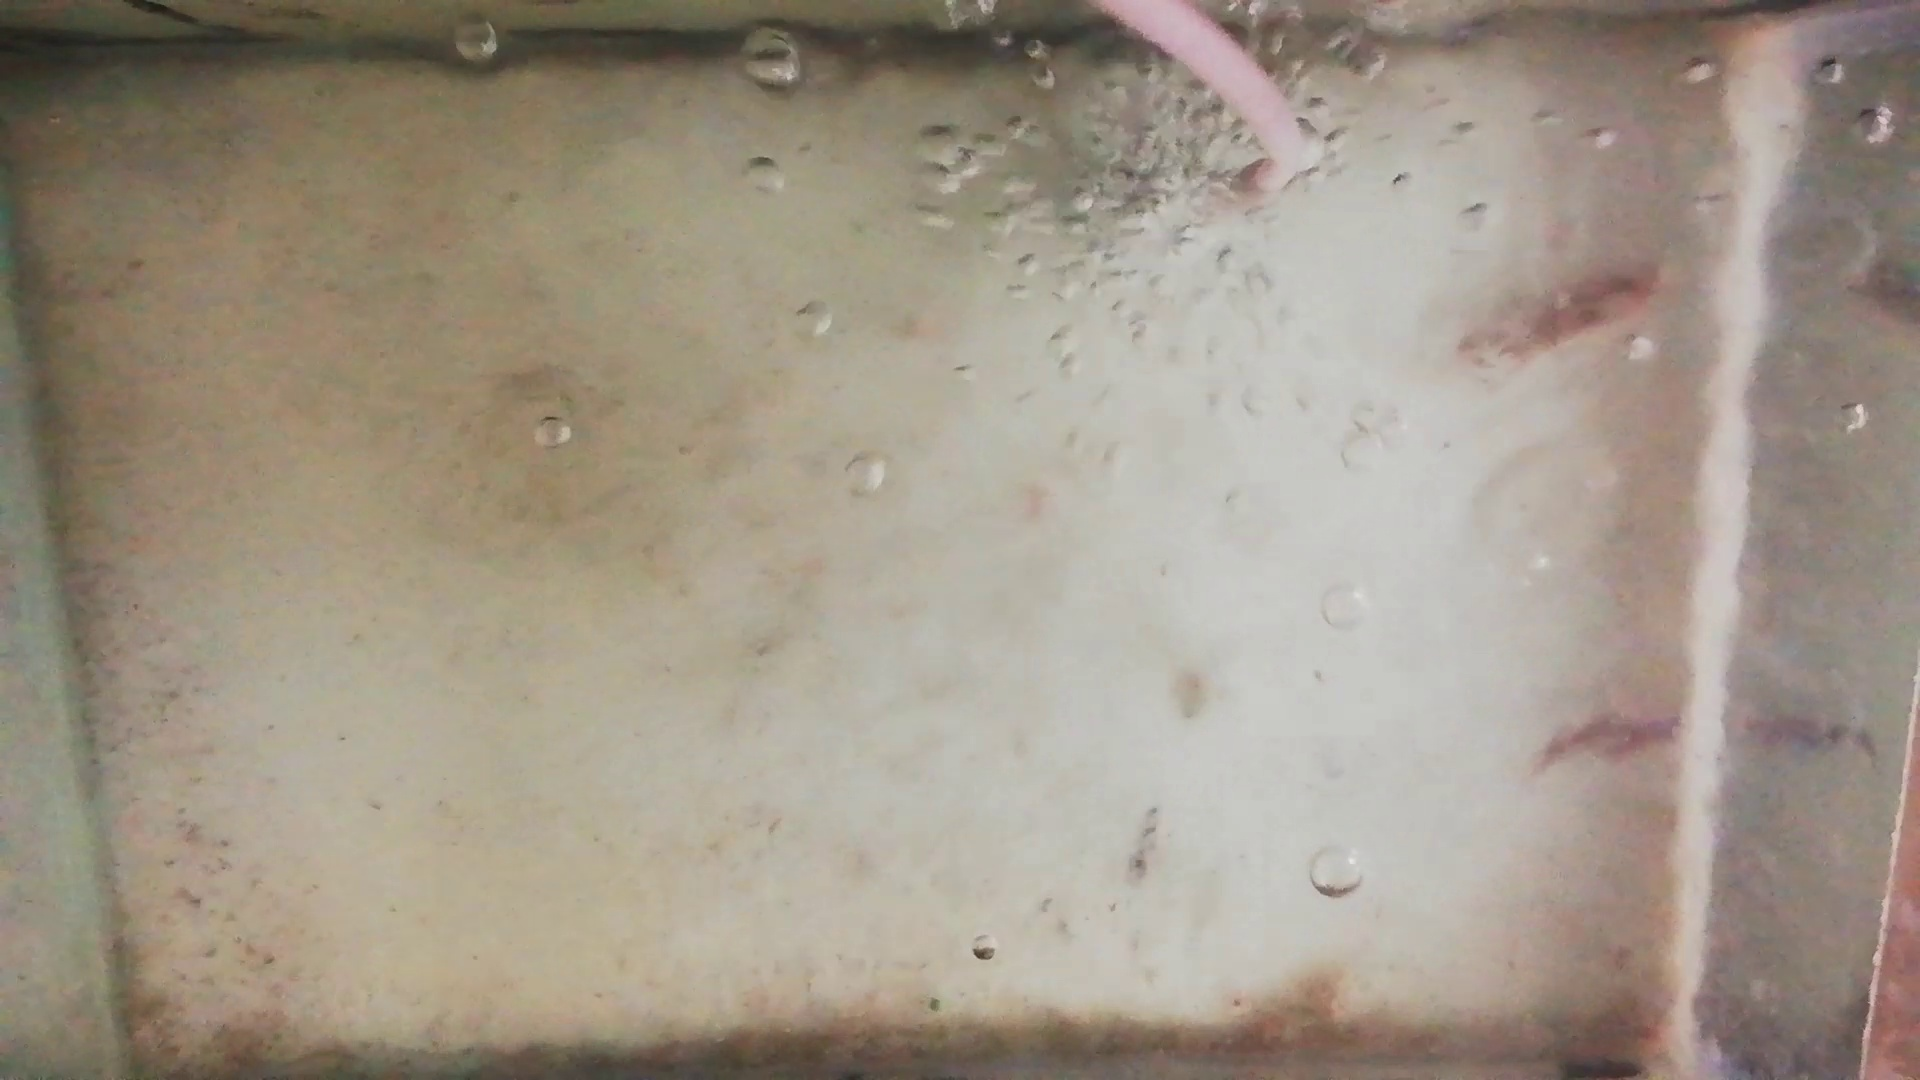fish: (1457, 262, 1660, 368), (1531, 705, 1685, 767)
